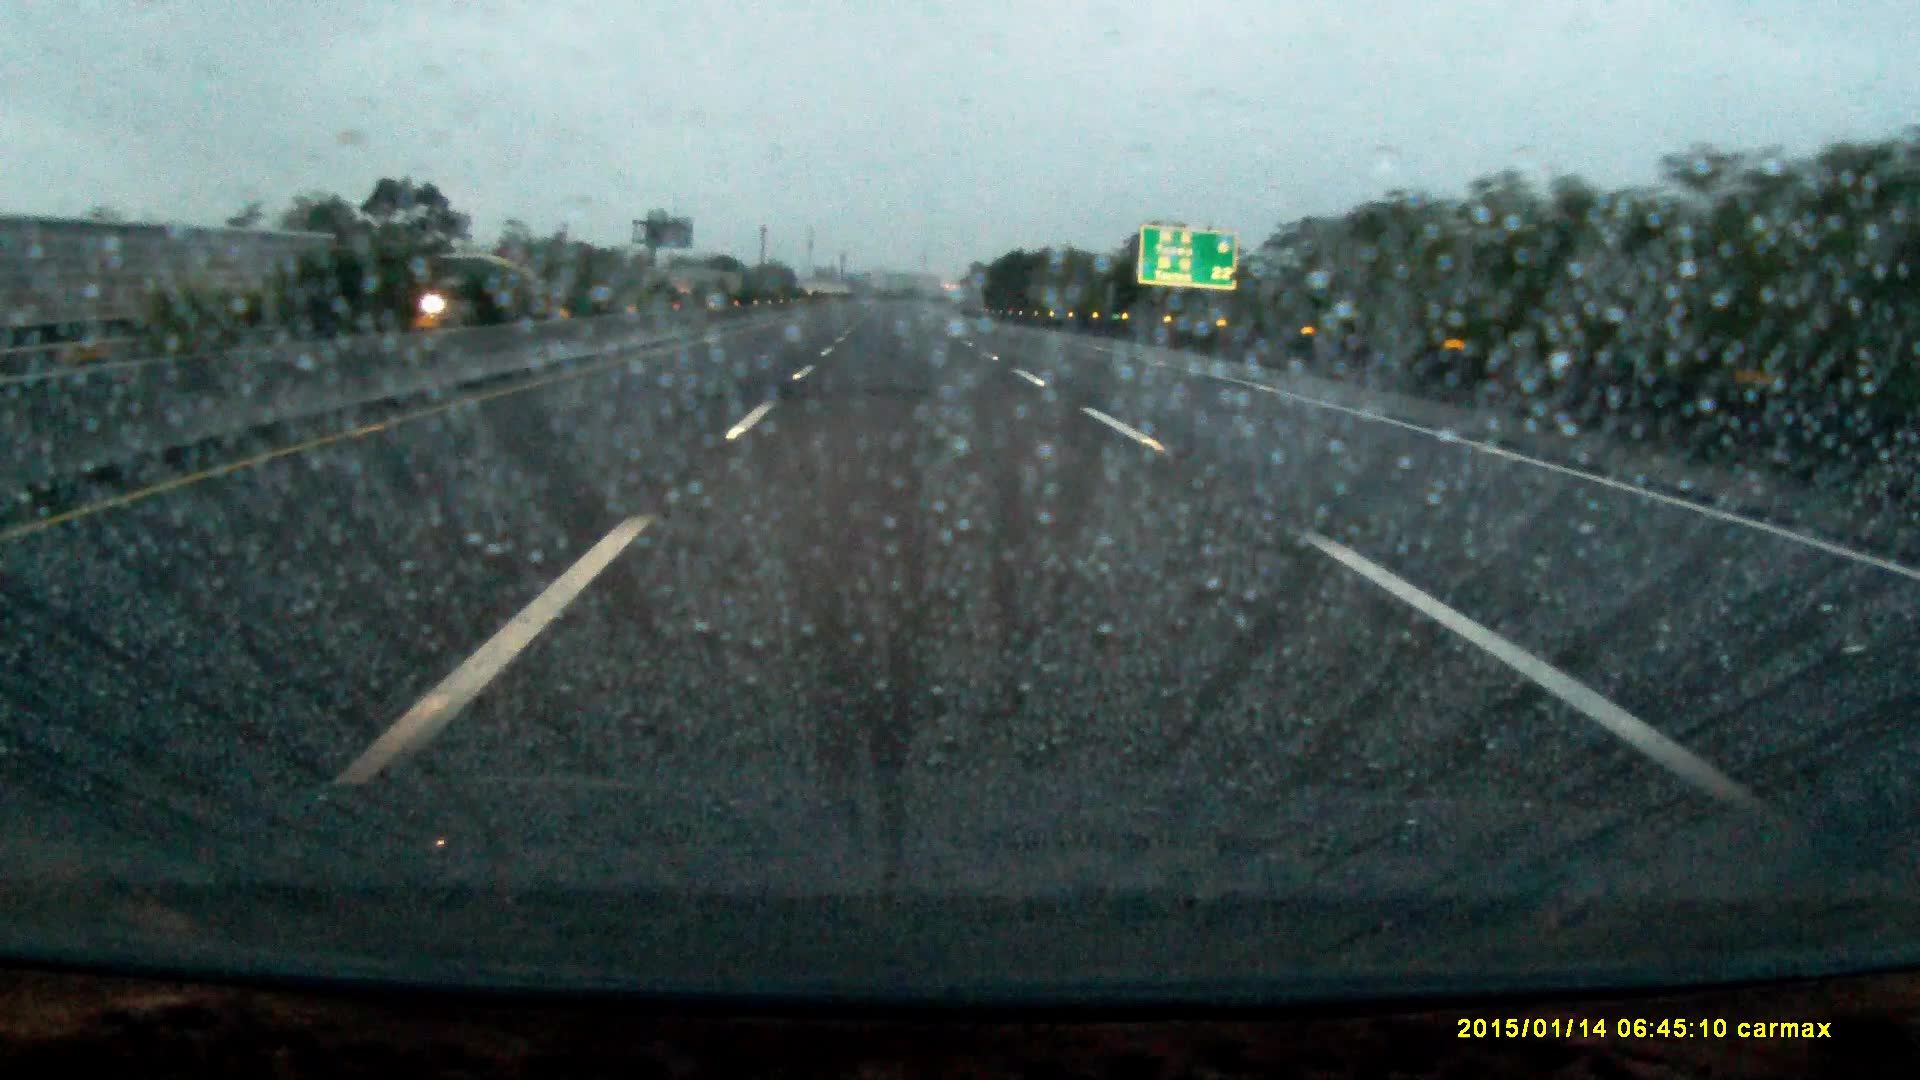vehicle: (430, 255, 543, 315)
